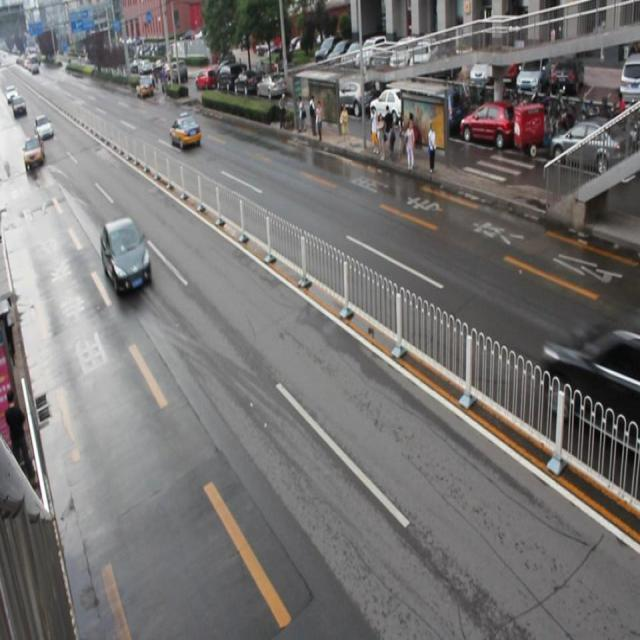car: (541, 317, 640, 458), (101, 218, 152, 292), (169, 112, 202, 152)
